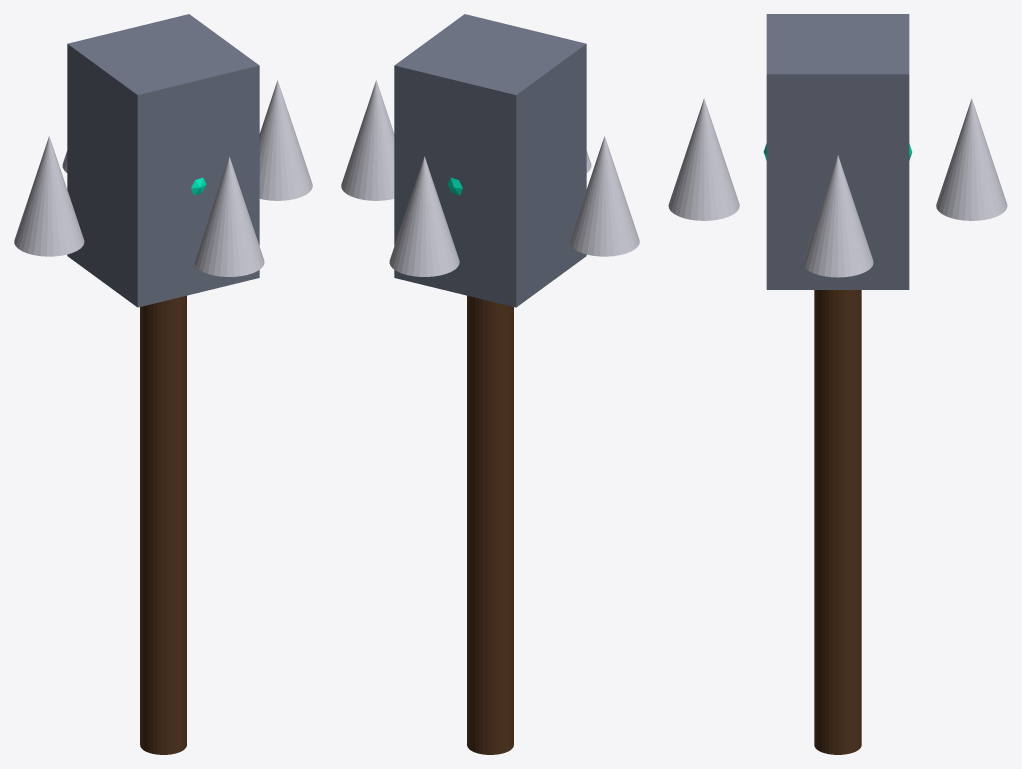
The model's file is megabonk_club.obj.
The picture shows the model from 3 angles, left to right: view 1: azimuth 30°, elevation 25°; view 2: azimuth 150°, elevation 25°; view 3: azimuth 270°, elevation 25°; orthographic projection.
Visible parts, largest first — view 1: Weapon_Head, Weapon_Shaft, Cone.003, Cone.002, Cone.001; view 2: Weapon_Head, Weapon_Shaft, Cone.003, Cone, Cone.001; view 3: Weapon_Head, Weapon_Shaft, Cone.001, Cone, Cone.002.
Boxes of the visible parts, bbox=[...] form: Weapon_Head: bbox=[67, 14, 259, 307]; Weapon_Shaft: bbox=[140, 295, 186, 754]; Cone.003: bbox=[14, 136, 84, 256]; Cone.002: bbox=[194, 156, 264, 276]; Cone.001: bbox=[259, 80, 312, 200]; Weapon_Head: bbox=[394, 14, 586, 307]; Weapon_Shaft: bbox=[467, 295, 513, 754]; Cone.003: bbox=[569, 136, 639, 256]; Cone: bbox=[389, 156, 459, 276]; Cone.001: bbox=[341, 80, 394, 200]; Weapon_Head: bbox=[766, 14, 909, 289]; Weapon_Shaft: bbox=[814, 290, 861, 754]; Cone.001: bbox=[802, 155, 873, 277]; Cone: bbox=[936, 98, 1007, 220]; Cone.002: bbox=[668, 98, 739, 220].
Size of the model in its own units: 1.14 by 2.6 by 1.14.
